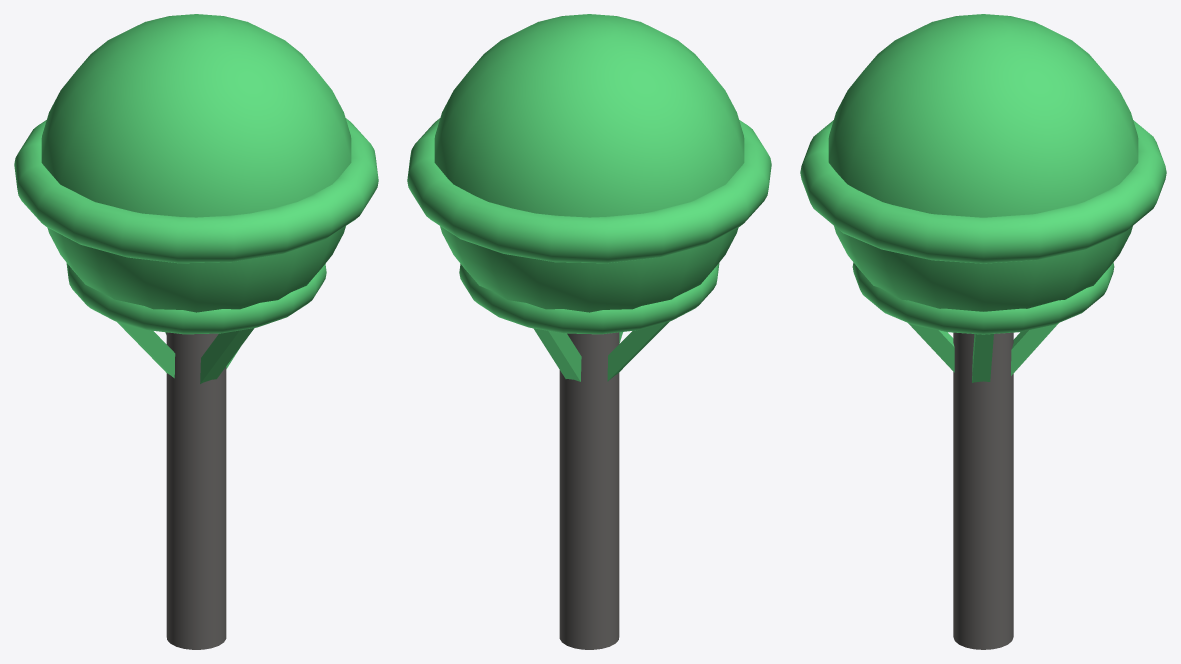
File: green.fbx
3 renders of one model, left to right at view 1: azimuth 30°, elevation 25°; view 2: azimuth 150°, elevation 25°; view 3: azimuth 270°, elevation 25°, orthographic.
Visible parts, largest first — view 1: Green; view 2: Green; view 3: Green.
Boxes of the visible parts, left/top/right/bottom form: Green: left=14, top=14, right=378, bottom=649; Green: left=407, top=14, right=771, bottom=649; Green: left=800, top=14, right=1166, bottom=649.
Size of the model in its own units: 12.42 by 22.78 by 12.42.
